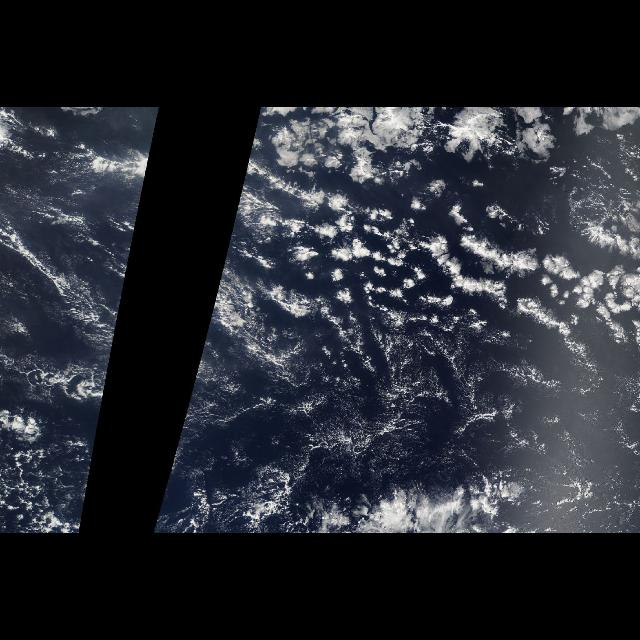Flower: (217, 108, 639, 334)
Gravel: (246, 312, 624, 472)
Sugar: (165, 336, 640, 492), (28, 342, 116, 492)
